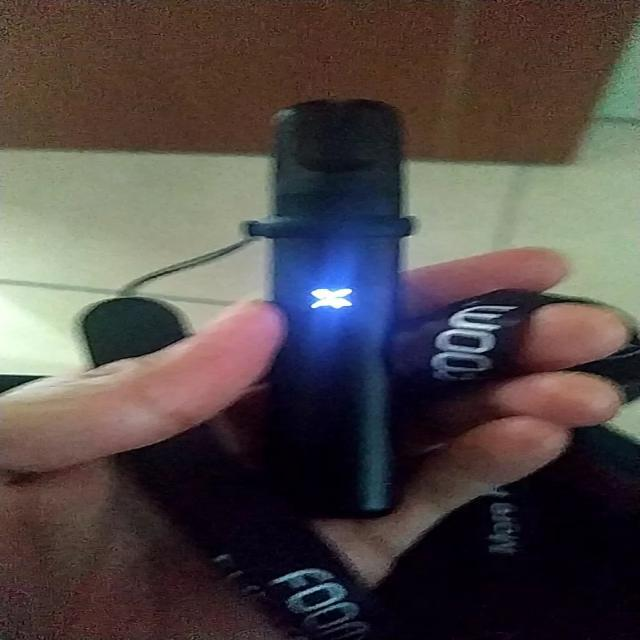Hazard: (264, 99, 409, 524)
